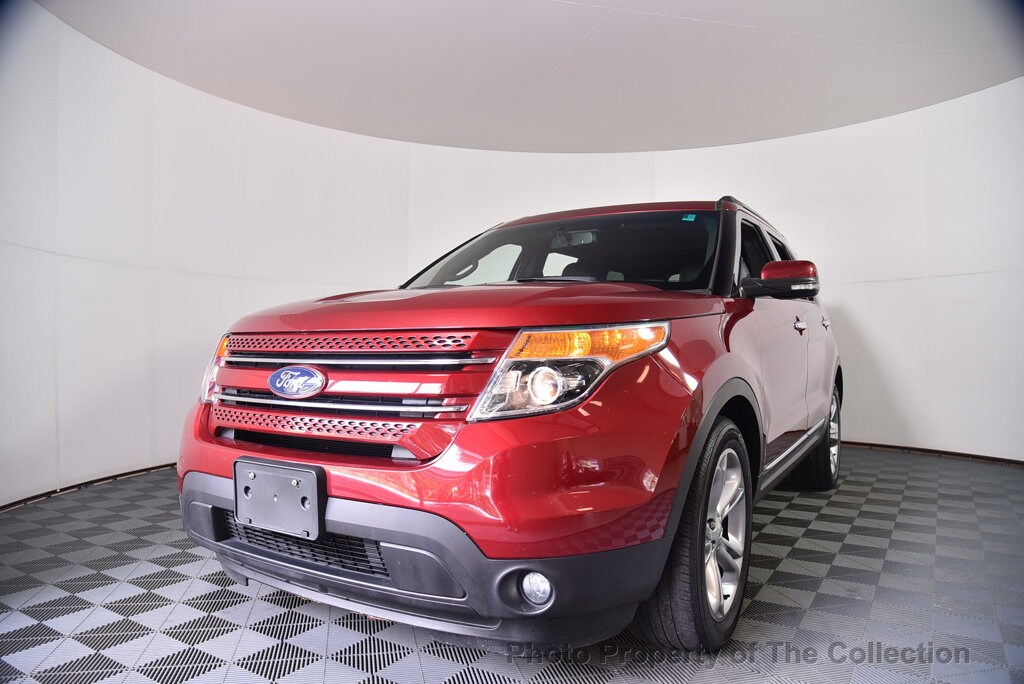Ford Explorer: (176, 199, 845, 655)
